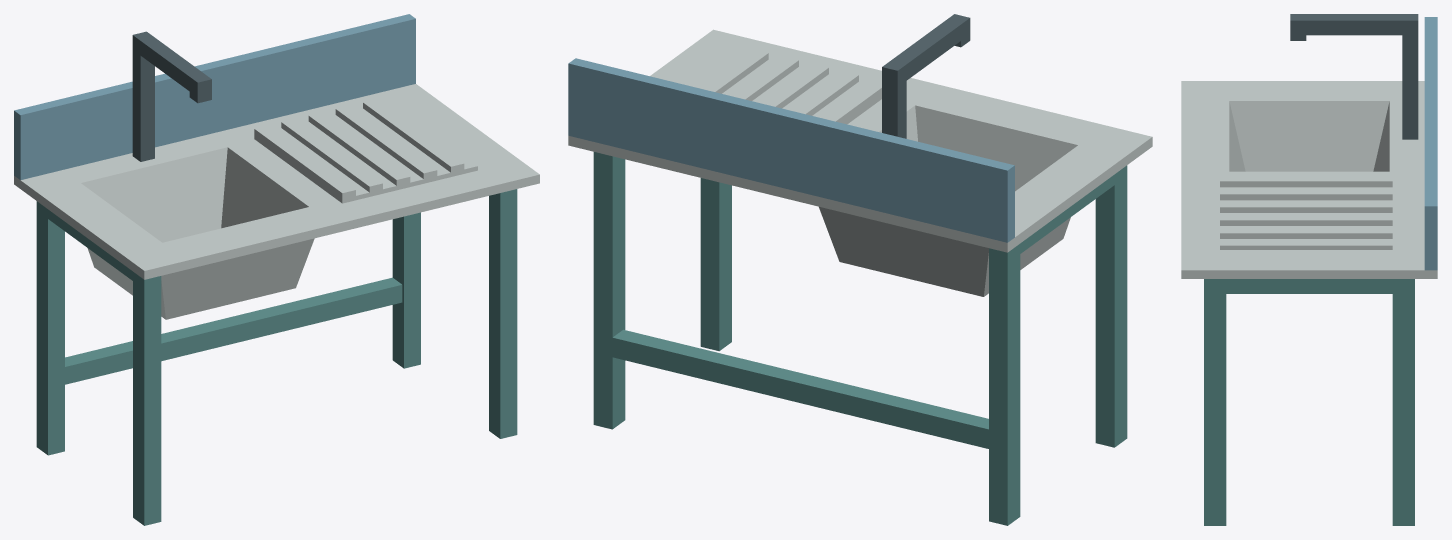
3 renders of one model, left to right at view 1: azimuth 30°, elevation 25°; view 2: azimuth 150°, elevation 25°; view 3: azimuth 270°, elevation 25°, orthographic. The views are drawn at different scales.
Parts seen in each view (by area): view 1: IntegralOffsetDeepBasinAndSideDeck, RearBlueSplashPanel, LeftOpenEndTrestle, ContinuousFiveRibDrainboard, RightOpenEndTrestle, RearLowerFrameStretcher, FixedHighAngularTapExterior; view 2: IntegralOffsetDeepBasinAndSideDeck, RearBlueSplashPanel, LeftOpenEndTrestle, RightOpenEndTrestle, RearLowerFrameStretcher, ContinuousFiveRibDrainboard, FixedHighAngularTapExterior; view 3: IntegralOffsetDeepBasinAndSideDeck, RightOpenEndTrestle, ContinuousFiveRibDrainboard, FixedHighAngularTapExterior, RearBlueSplashPanel.
Boxes of the visible parts, x1,y1,x2,y2 form: IntegralOffsetDeepBasinAndSideDeck: [14, 84, 539, 319]; RearBlueSplashPanel: [14, 14, 415, 180]; LeftOpenEndTrestle: [36, 201, 161, 525]; ContinuousFiveRibDrainboard: [254, 99, 477, 203]; RightOpenEndTrestle: [392, 189, 517, 438]; RearLowerFrameStretcher: [65, 277, 402, 384]; FixedHighAngularTapExterior: [132, 31, 211, 161]; IntegralOffsetDeepBasinAndSideDeck: [568, 29, 1152, 296]; RearBlueSplashPanel: [568, 58, 1014, 242]; LeftOpenEndTrestle: [989, 165, 1127, 525]; RightOpenEndTrestle: [593, 152, 731, 429]; RearLowerFrameStretcher: [612, 329, 988, 448]; ContinuousFiveRibDrainboard: [692, 49, 881, 124]; FixedHighAngularTapExterior: [882, 14, 970, 138]; IntegralOffsetDeepBasinAndSideDeck: [1181, 81, 1437, 278]; RightOpenEndTrestle: [1204, 279, 1414, 525]; ContinuousFiveRibDrainboard: [1220, 175, 1392, 249]; FixedHighAngularTapExterior: [1290, 14, 1418, 139]; RearBlueSplashPanel: [1424, 17, 1437, 270].
Bounding box in the file's own units: 1.4 × 1.31 × 0.8.
